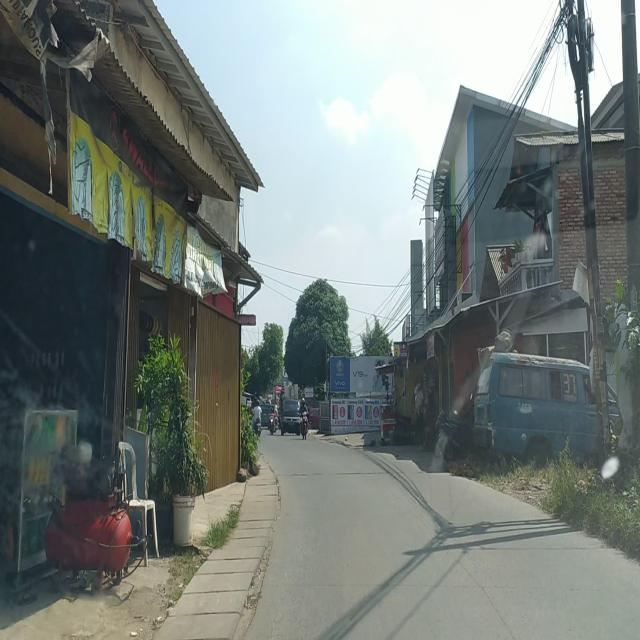Sewer Cover: (280, 471, 392, 476)
